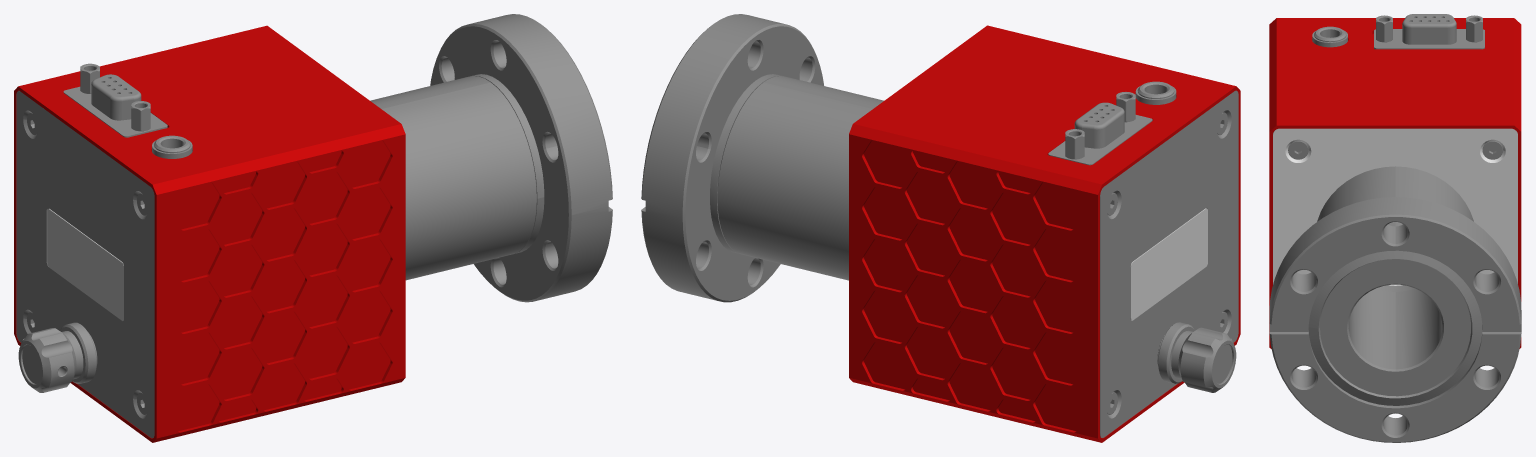
File: 3dpea.glb
3 renders of one model, left to right at view 1: azimuth 30°, elevation 25°; view 2: azimuth 150°, elevation 25°; view 3: azimuth 270°, elevation 25°, orthographic. The views are drawn at different scales.
Visible parts, largest first — view 1: ВЦГС.406239.001.002.05, ВЦГС.406239.001.002.07, SOLID_node_9, ВЦГС.406239.001.002.03, nodes[11], nodes[23], nodes[18], nodes[19], nodes[22]; view 2: ВЦГС.406239.001.002.05, ВЦГС.406239.001.002.07, SOLID_node_9, ВЦГС.406239.001.002.03, nodes[11], nodes[23], nodes[18], nodes[19], nodes[21]; view 3: SOLID_node_9, ВЦГС.406239.001.002.05, ВЦГС.406239.001.002.04, ВЦГС.406239.001.002.03, nodes[18], nodes[19], nodes[21], nodes[22], SOLID_node_4, SOLID_node_1.
Part boxes in pixels (<box>): ВЦГС.406239.001.002.05: <box>14,25,405,442</box>; ВЦГС.406239.001.002.07: <box>16,91,154,438</box>; SOLID_node_9: <box>430,14,612,302</box>; ВЦГС.406239.001.002.03: <box>370,76,536,280</box>; nodes[11]: <box>47,208,123,320</box>; nodes[23]: <box>18,322,96,392</box>; nodes[18]: <box>63,74,167,137</box>; nodes[19]: <box>152,135,192,158</box>; nodes[22]: <box>131,101,150,131</box>; ВЦГС.406239.001.002.05: <box>849,25,1240,442</box>; ВЦГС.406239.001.002.07: <box>1100,90,1238,437</box>; SOLID_node_9: <box>641,14,823,302</box>; ВЦГС.406239.001.002.03: <box>717,76,883,280</box>; nodes[11]: <box>1130,208,1207,320</box>; nodes[23]: <box>1158,322,1236,392</box>; nodes[18]: <box>1048,102,1152,165</box>; nodes[19]: <box>1135,81,1176,104</box>; nodes[21]: <box>1065,129,1084,159</box>; SOLID_node_9: <box>1269,197,1521,442</box>; ВЦГС.406239.001.002.05: <box>1269,18,1521,348</box>; ВЦГС.406239.001.002.04: <box>1273,128,1517,285</box>; ВЦГС.406239.001.002.03: <box>1317,166,1473,291</box>; nodes[18]: <box>1374,14,1484,49</box>; nodes[19]: <box>1312,26,1347,47</box>; nodes[21]: <box>1466,15,1482,42</box>; nodes[22]: <box>1376,15,1392,42</box>; SOLID_node_4: <box>1288,141,1308,159</box>; SOLID_node_1: <box>1482,141,1502,159</box>.
Size of the model in its own units: 145 by 76.2 by 70.05.
